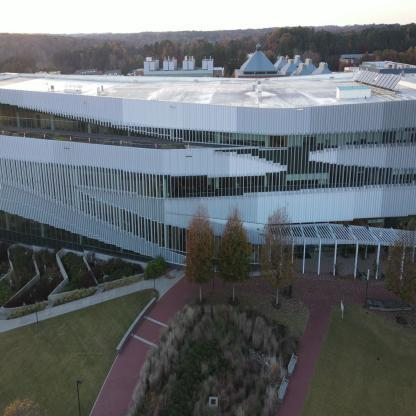Hunt Library: (0, 32, 416, 309)
